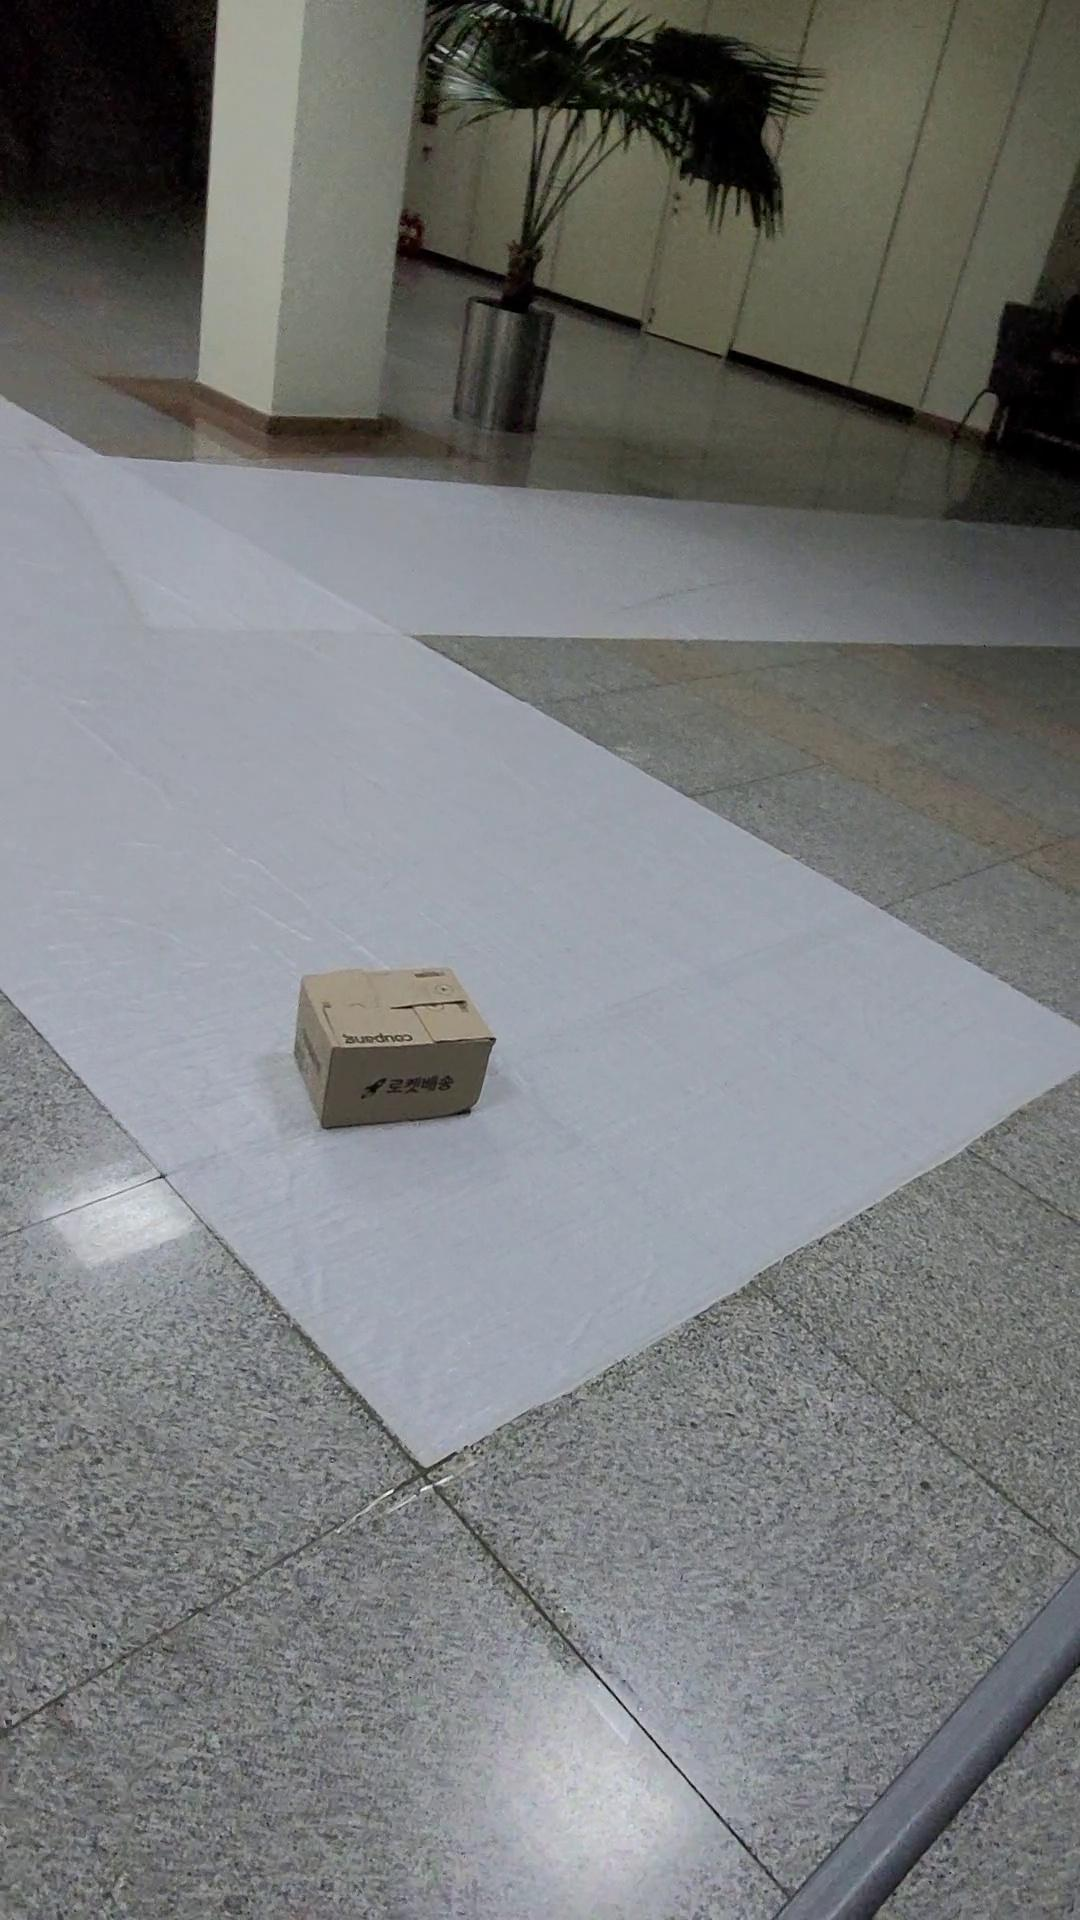Box: (286, 948, 493, 1130)
